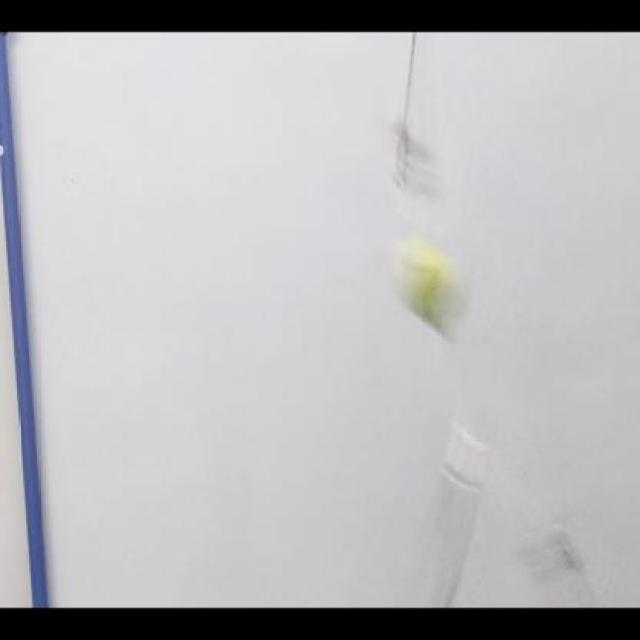baseball: (390, 220, 464, 340)
